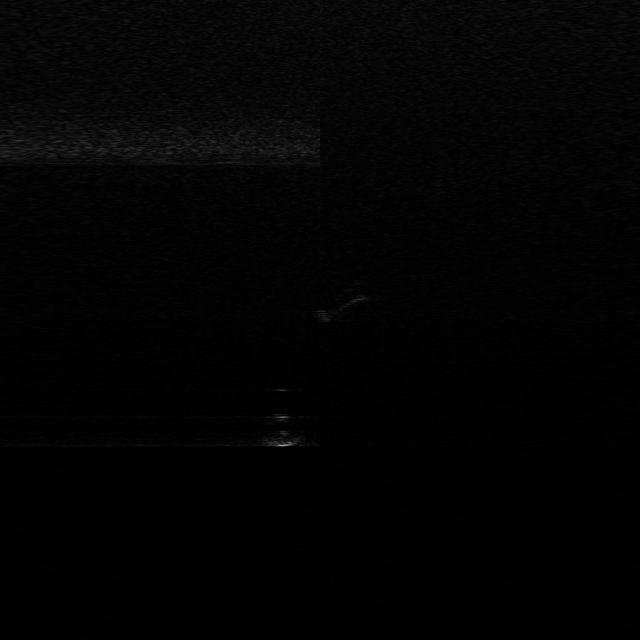ball: (256, 412, 306, 447)
tyre: (314, 283, 366, 321)
